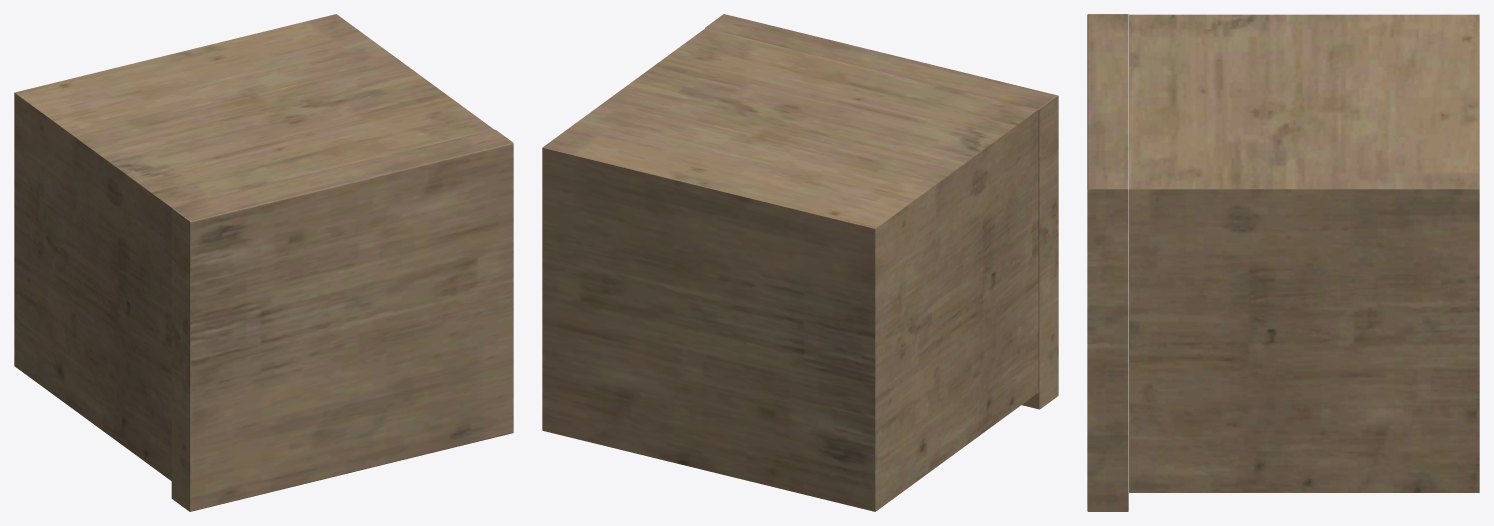
3 views of the same model, side by side, from view 1: azimuth 30°, elevation 25°; view 2: azimuth 150°, elevation 25°; view 3: azimuth 270°, elevation 25° (orthographic). The views are drawn at different scales.
Parts seen in each view (by area): view 1: unicolor_black_2; view 2: unicolor_black_2; view 3: unicolor_black_2.
Boxes of the visible parts, <box> form: unicolor_black_2: <box>14,14,513,511</box>; unicolor_black_2: <box>542,14,1058,511</box>; unicolor_black_2: <box>1087,14,1479,511</box>.
Bounding box in the file's own units: 0.532 × 0.4567 × 0.5033.
Materials: 1 (1 with a texture image).
